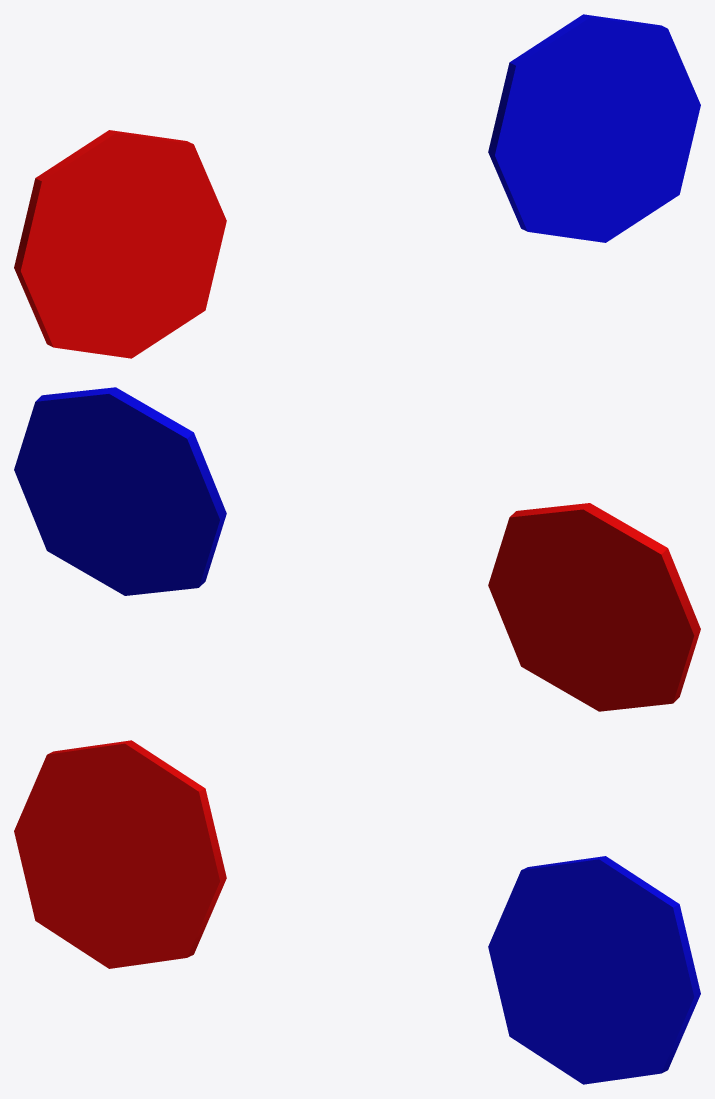
Rendered from PawnStats.fbx.
3 renders of one model, top to bottom at view 1: azimuth 30°, elevation 25°; view 2: azimuth 150°, elevation 25°; view 3: azimuth 330°, elevation 25°, orthographic.
Parts seen in each view (by area): view 1: PawnStats; view 2: PawnStats; view 3: PawnStats.
Part boxes in pixels (box(x1,y1,x2,y2)): PawnStats: box(14, 14, 700, 358); PawnStats: box(14, 387, 700, 711); PawnStats: box(14, 740, 700, 1084).
Size of the model in its own units: 5.93 by 1.79 by 0.3397.
